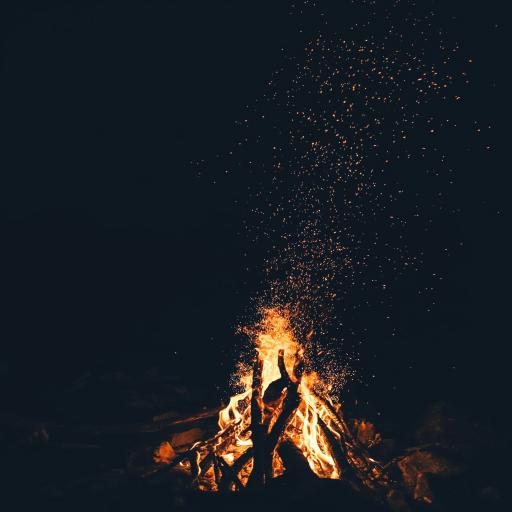campfire: (162, 25, 440, 511)
